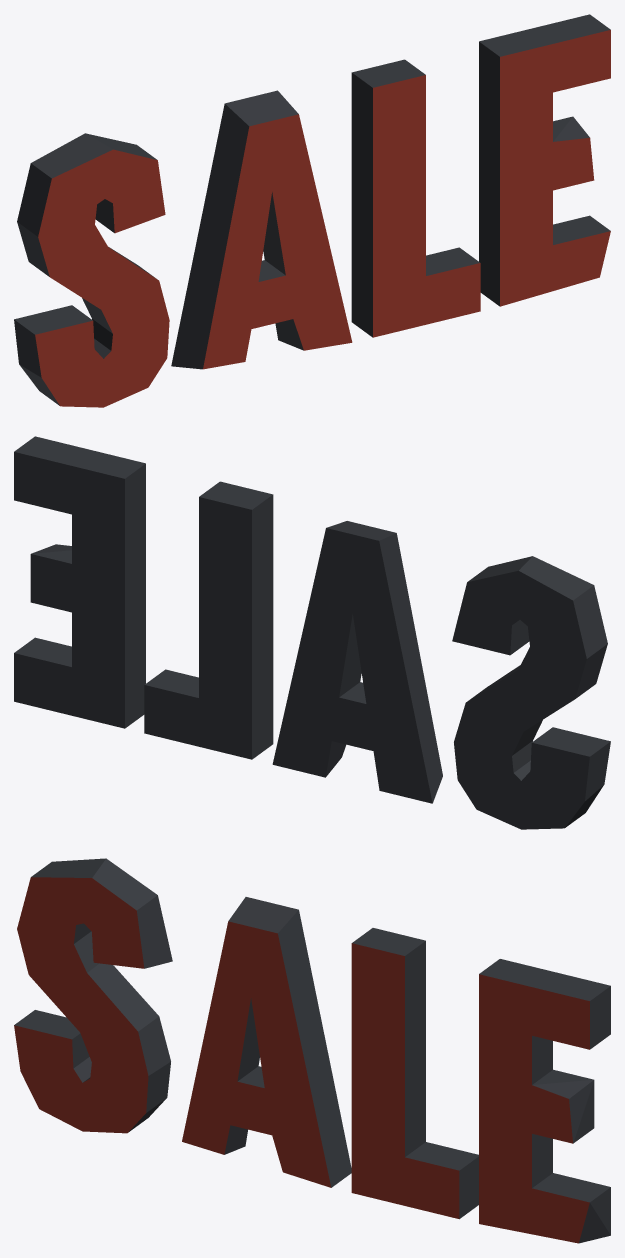
Rendered from SM_Sign_3dText_Sale_01.obj.
3 views of the same model, one above another, from view 1: azimuth 30°, elevation 25°; view 2: azimuth 150°, elevation 25°; view 3: azimuth 330°, elevation 25° (orthographic).
Visible parts, largest first — view 1: SM_Sign_3dText_Sale_01_0; view 2: SM_Sign_3dText_Sale_01_0; view 3: SM_Sign_3dText_Sale_01_0.
Part boxes in pixels (box(x1,y1,x2,y2)): SM_Sign_3dText_Sale_01_0: box(14, 14, 610, 407); SM_Sign_3dText_Sale_01_0: box(14, 436, 610, 829); SM_Sign_3dText_Sale_01_0: box(14, 858, 610, 1243).
Size of the model in its own units: 1.72 by 0.7379 by 0.1093.
1 material, 1 textured.
